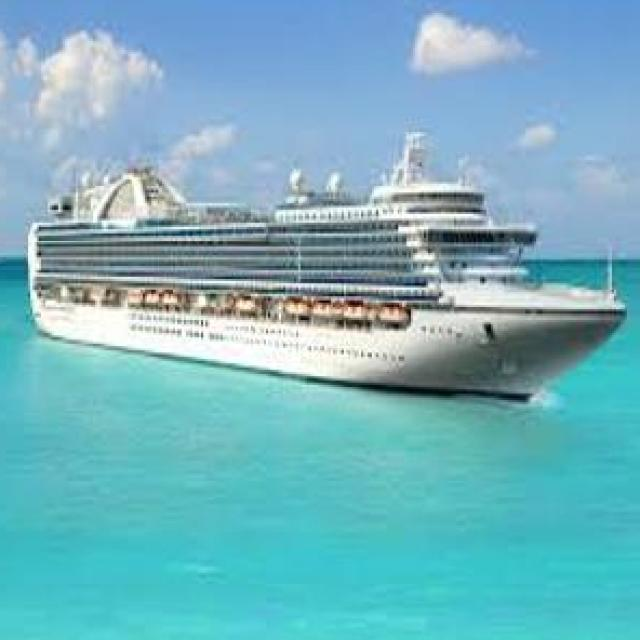passenger ship: (26, 127, 624, 395)
